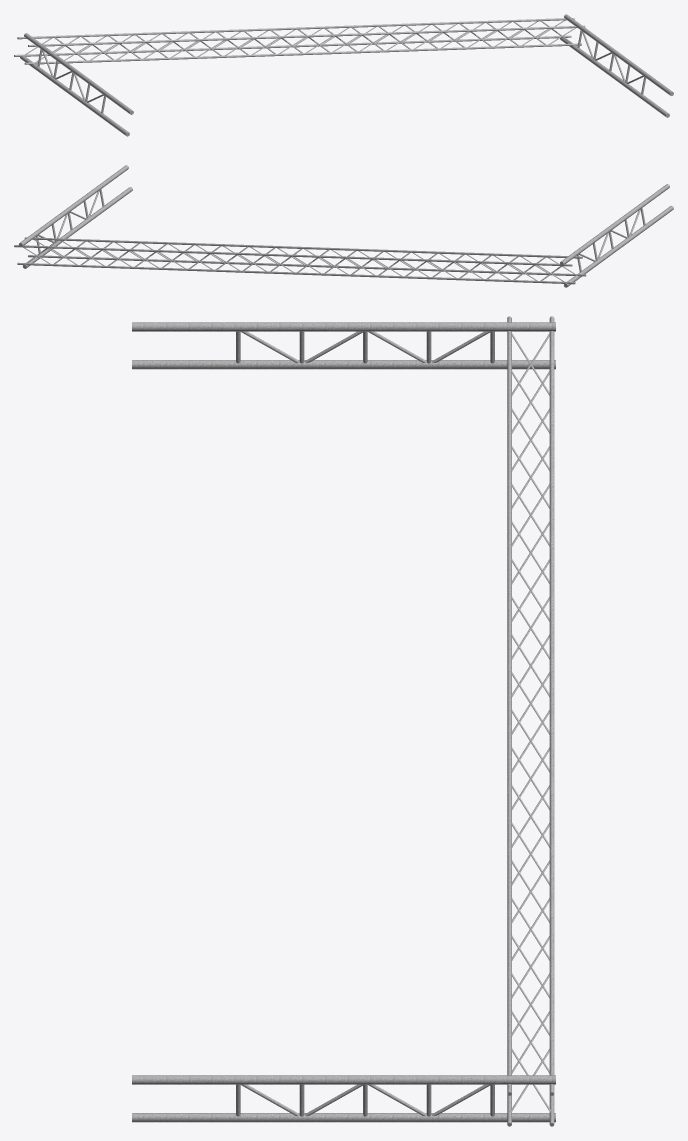
File: _1BRIDGE_AD01_EMIRATES_001_SUB0_Scene.206.obj
3 renders of one model, top to bottom at view 1: azimuth 30°, elevation 25°; view 2: azimuth 150°, elevation 25°; view 3: azimuth 270°, elevation 25°, orthographic. The views are drawn at different scales.
Visible parts, largest first — view 1: _1BRIDGE_AD01_EMIRATES_001_SUB0_Scene.206; view 2: _1BRIDGE_AD01_EMIRATES_001_SUB0_Scene.206; view 3: _1BRIDGE_AD01_EMIRATES_001_SUB0_Scene.206.
Boxes of the visible parts, <box> form: _1BRIDGE_AD01_EMIRATES_001_SUB0_Scene.206: <box>14,14,673,136</box>; _1BRIDGE_AD01_EMIRATES_001_SUB0_Scene.206: <box>14,165,673,287</box>; _1BRIDGE_AD01_EMIRATES_001_SUB0_Scene.206: <box>132,316,555,1126</box>.
Size of the model in its own units: 30.5 by 7.18 by 10.
